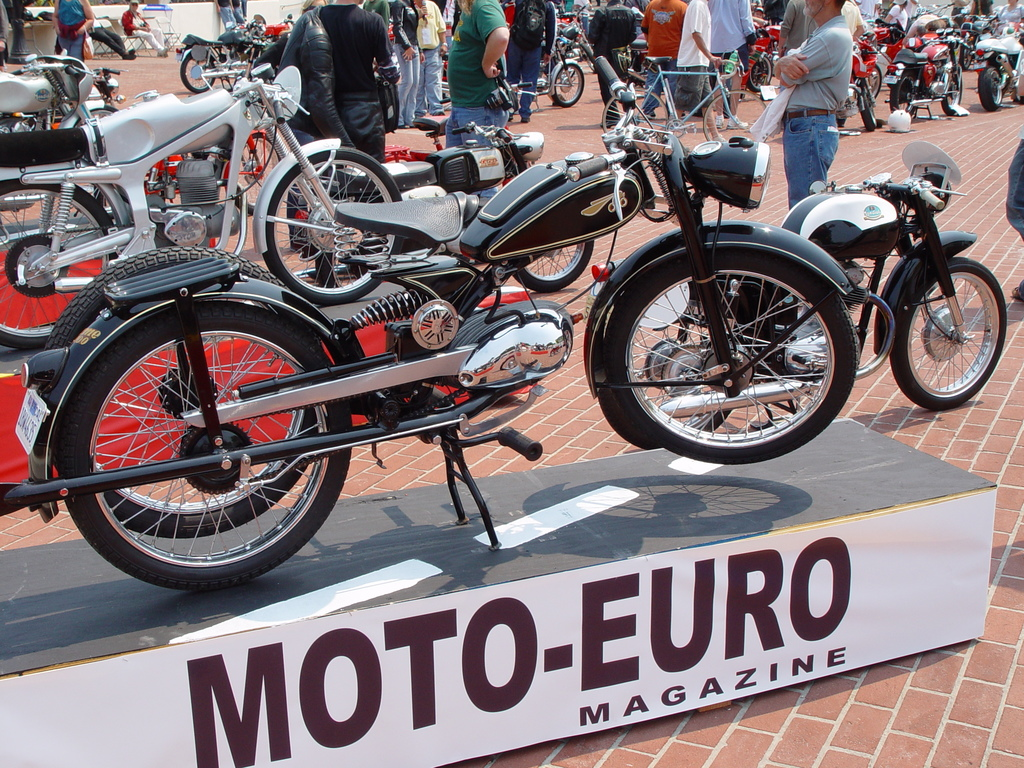Motorcycle: (0, 48, 860, 591), (550, 118, 1000, 472), (1, 28, 401, 350), (2, 48, 126, 128), (883, 23, 968, 122), (174, 17, 272, 94), (968, 26, 1023, 108), (531, 30, 584, 108), (849, 34, 885, 103), (741, 32, 773, 92)
